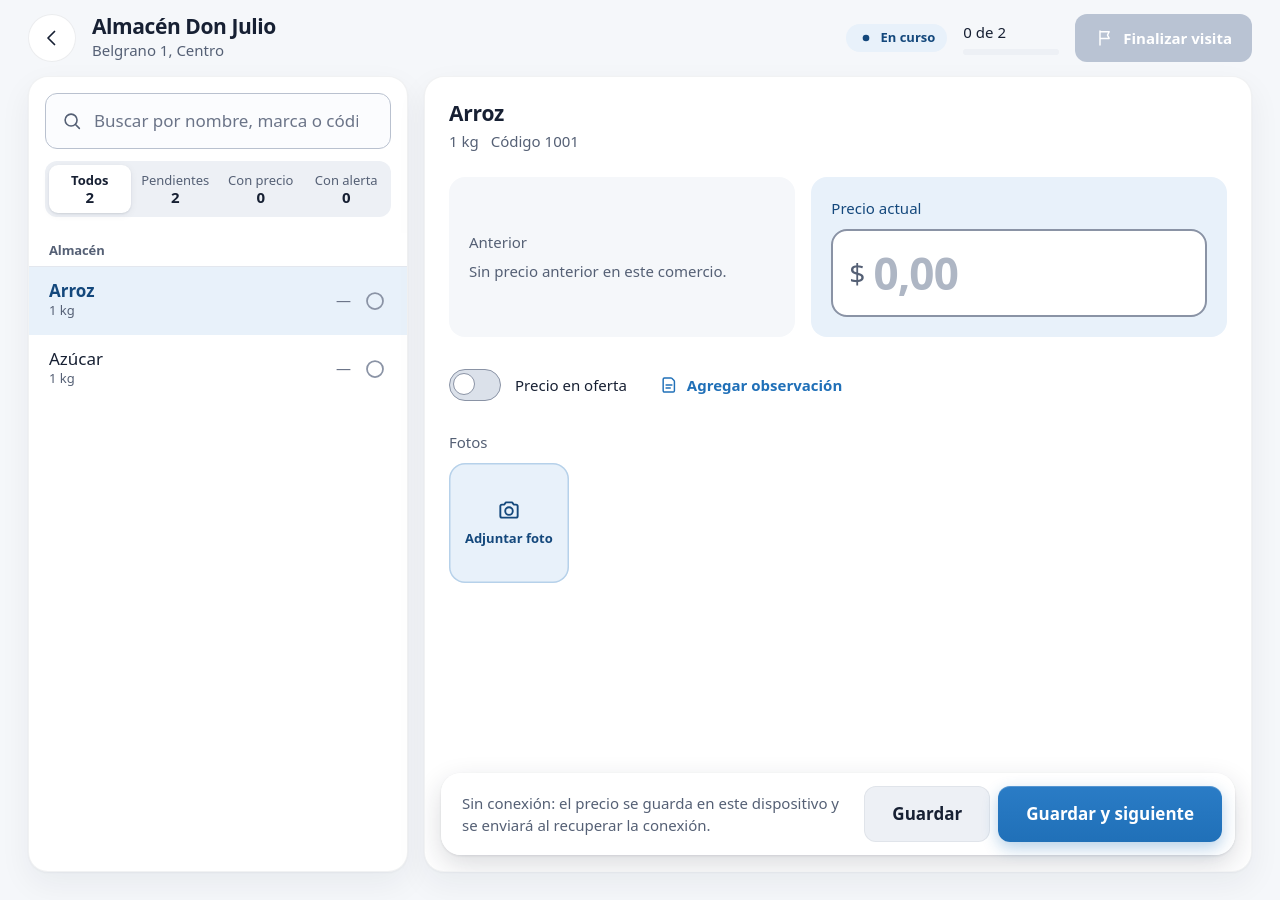
Scenario: VisitaPage offline outbox › offline: saves into the outbox, shows the value, marks the row and counts it as priced
The width and height of the screenshot is (1280, 900).
Expected: the heading "Almacén Don Julio" is shown, [92,12,276,40]
Type "1500" into the field labelled "Precio actual" at (1031, 273), box [873,247,1189,300]
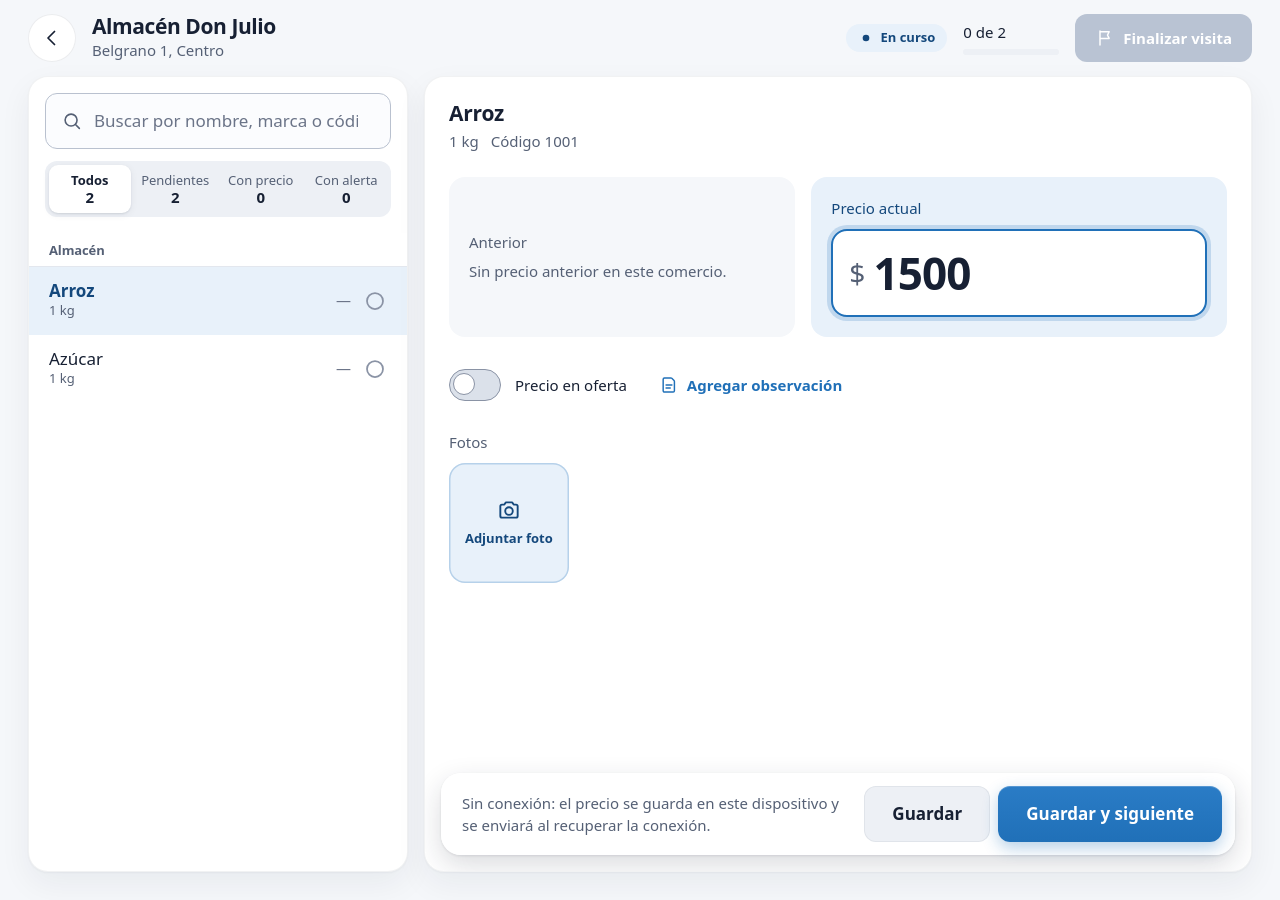
Click the button "Guardar" at (927, 814), box [864,786,990,842]
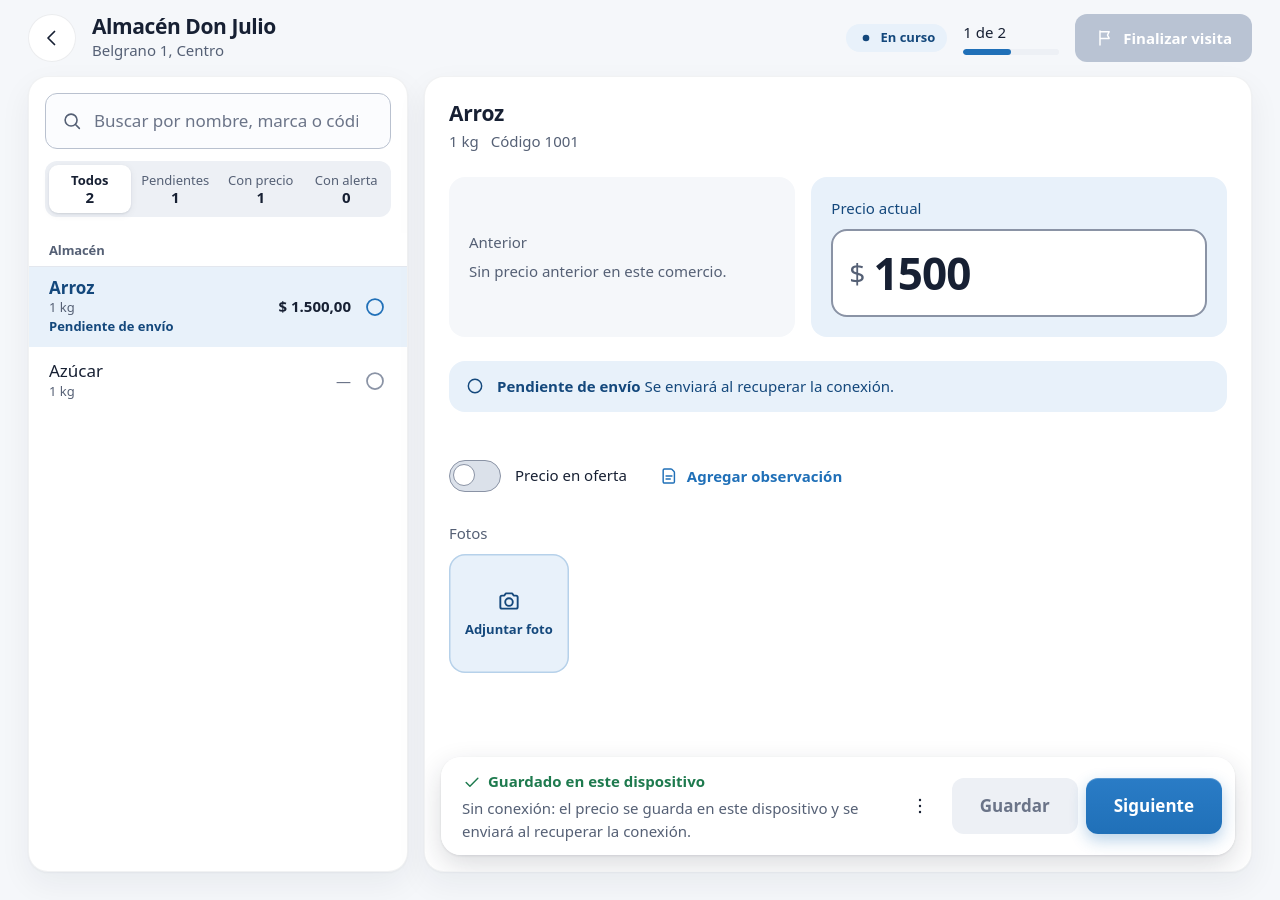
Expected: the 1st text "Pendiente de envío" is shown, [49,317,173,335]
Expected: the text "$ 1.500,00" is shown, [278,296,351,318]
Expected: the text "1 de 2" is shown, [963,22,1006,42]
